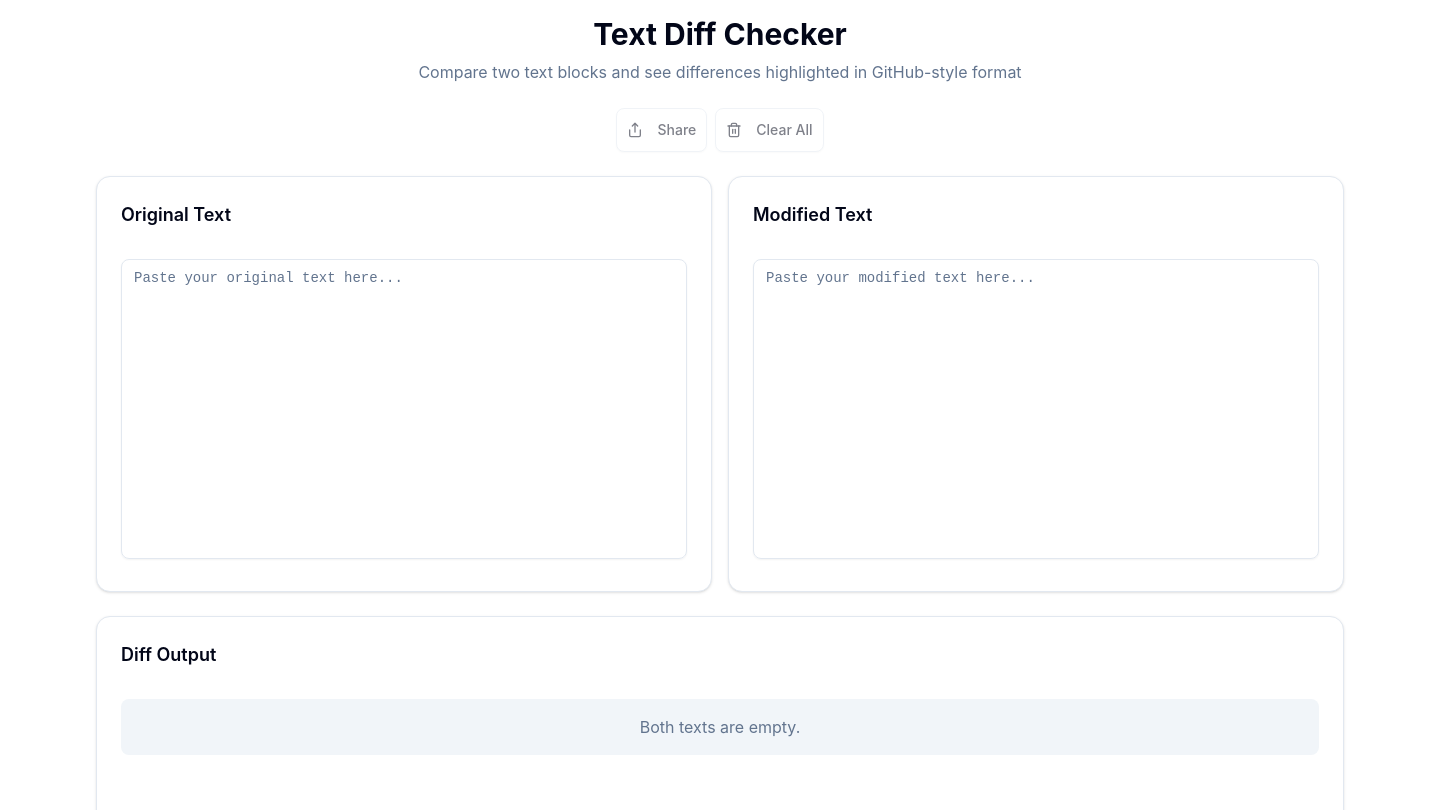
Scenario: DiffChecker › shows copy button when diff results are available
# Add different text to generate a diff
In the text box with placeholder "Paste your original text here...": (404, 409) [121,259,687,559], type "Hello World"
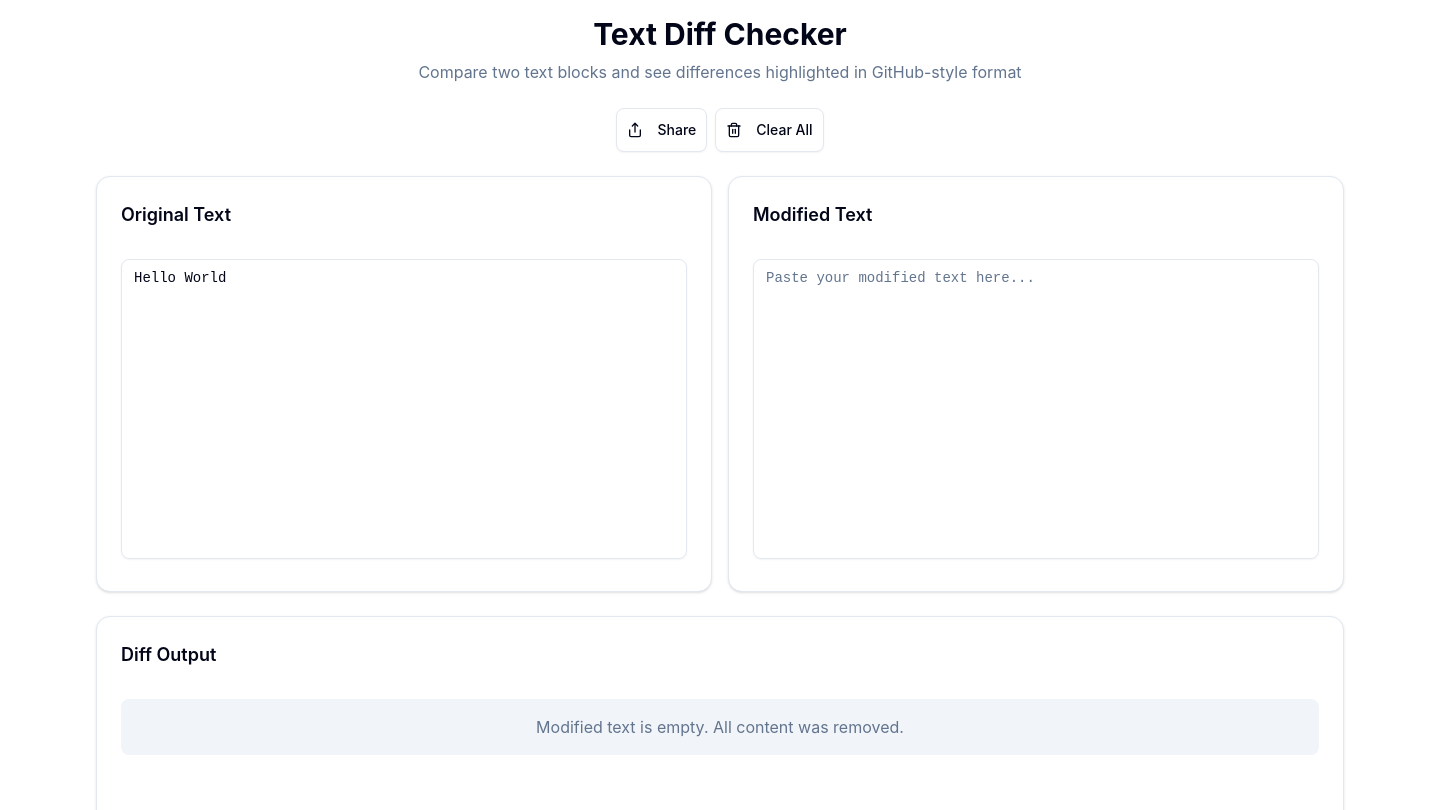
In the text box with placeholder "Paste your modified text here...": (1036, 409) [753,259,1319,559], type "Hello Universe"
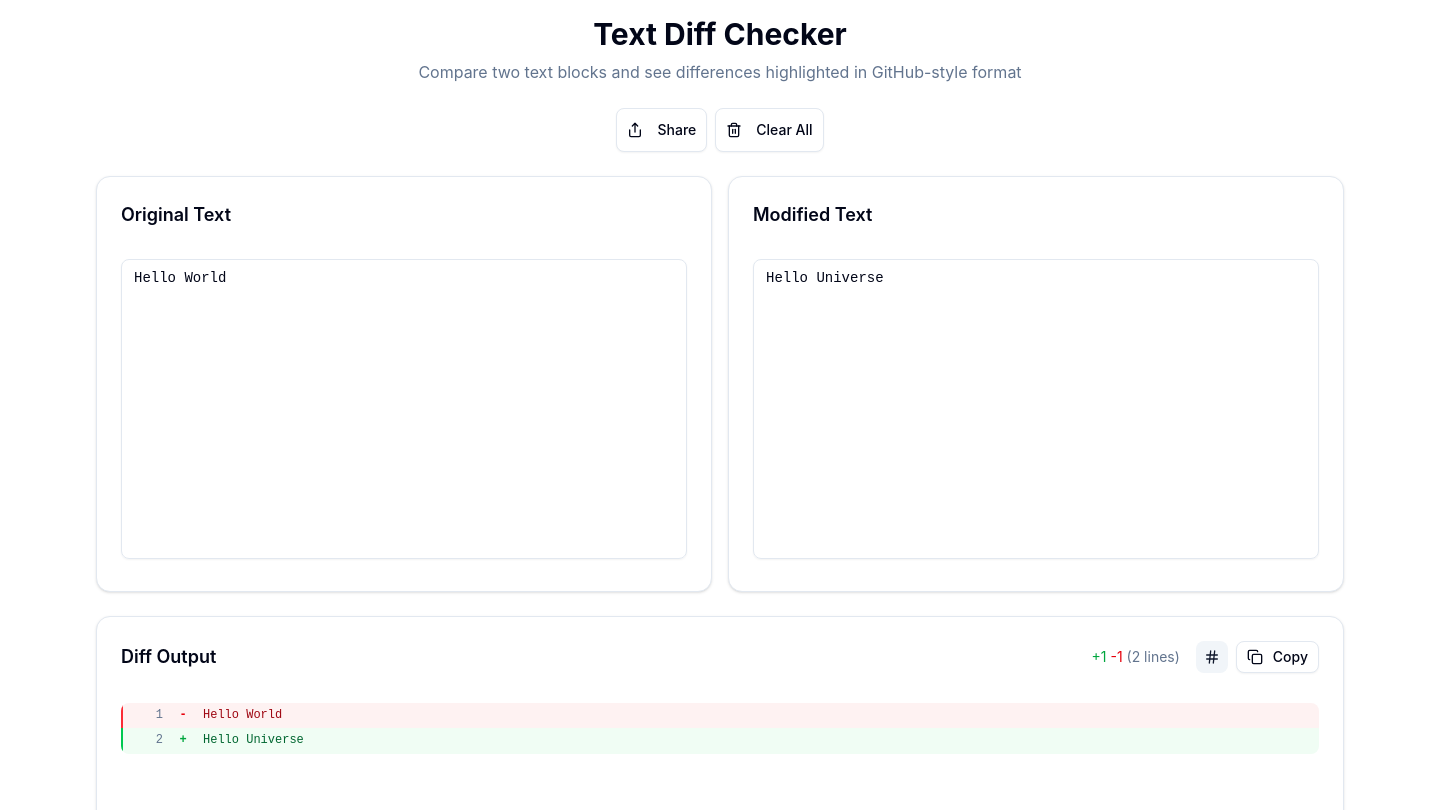
expect the button "Copy" is shown: met, box [1236,641,1319,673]
